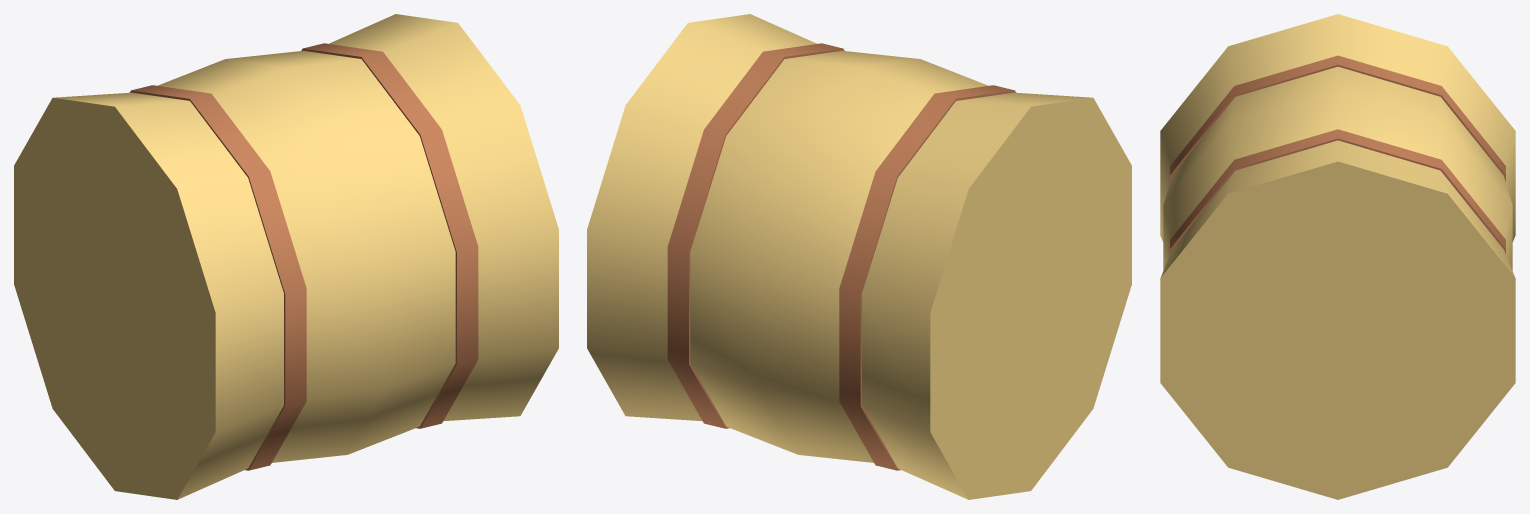
File: Mesh_Hay_Bale_1.fbx
3 renders of one model, left to right at view 1: azimuth 30°, elevation 25°; view 2: azimuth 150°, elevation 25°; view 3: azimuth 270°, elevation 25°, orthographic. The views are drawn at different scales.
Visible parts, largest first — view 1: Hay_Bale_1; view 2: Hay_Bale_1; view 3: Hay_Bale_1.
Part boxes in pixels (box(x1,y1,x2,y2)): Hay_Bale_1: box(14, 14, 558, 499); Hay_Bale_1: box(587, 14, 1131, 499); Hay_Bale_1: box(1160, 14, 1515, 499).
Size of the model in its own units: 200 by 214 by 204.
1 material, 1 textured.
